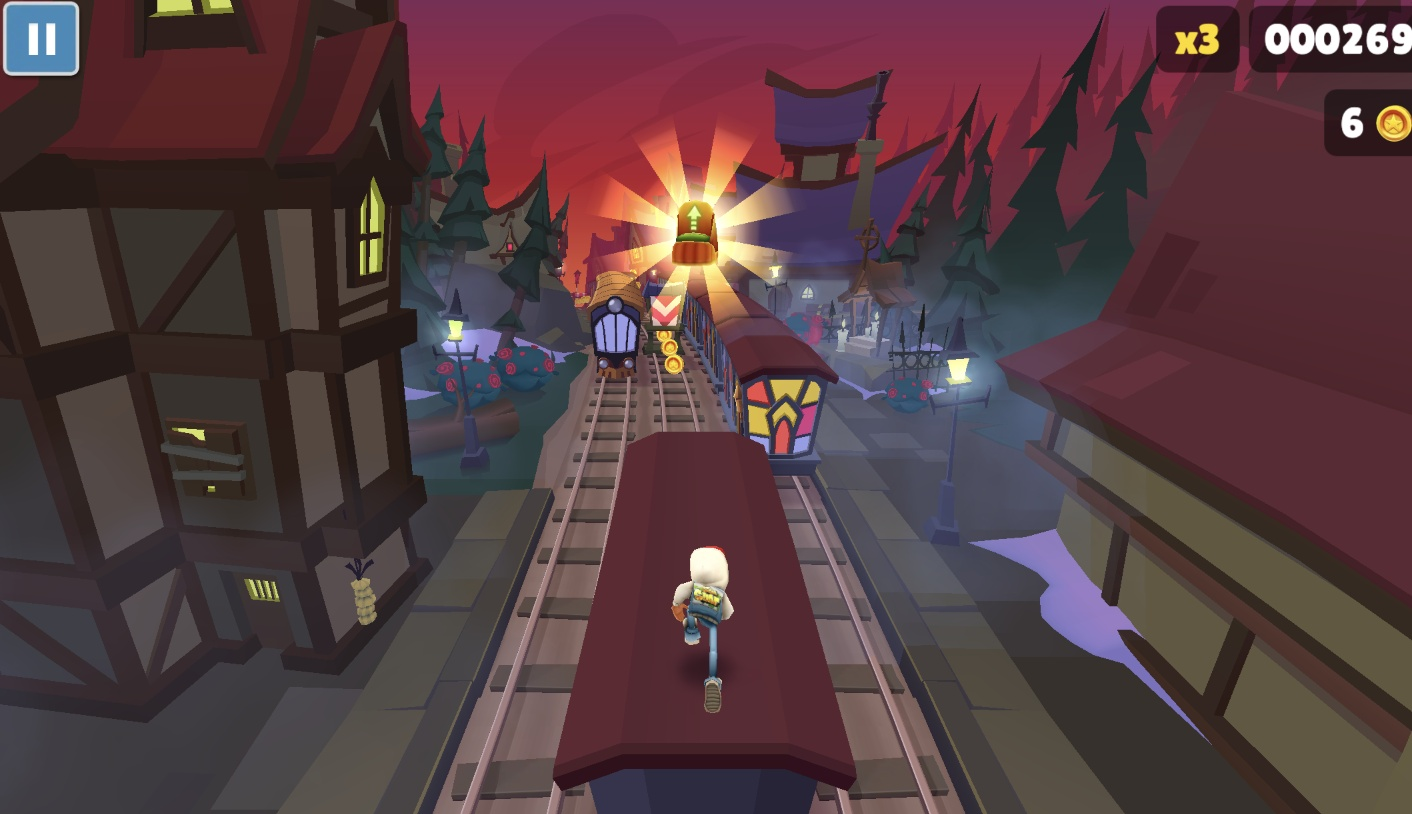overhead_barrier: (642, 281, 687, 353)
train: (541, 439, 866, 814), (684, 275, 843, 481), (583, 272, 646, 381)
